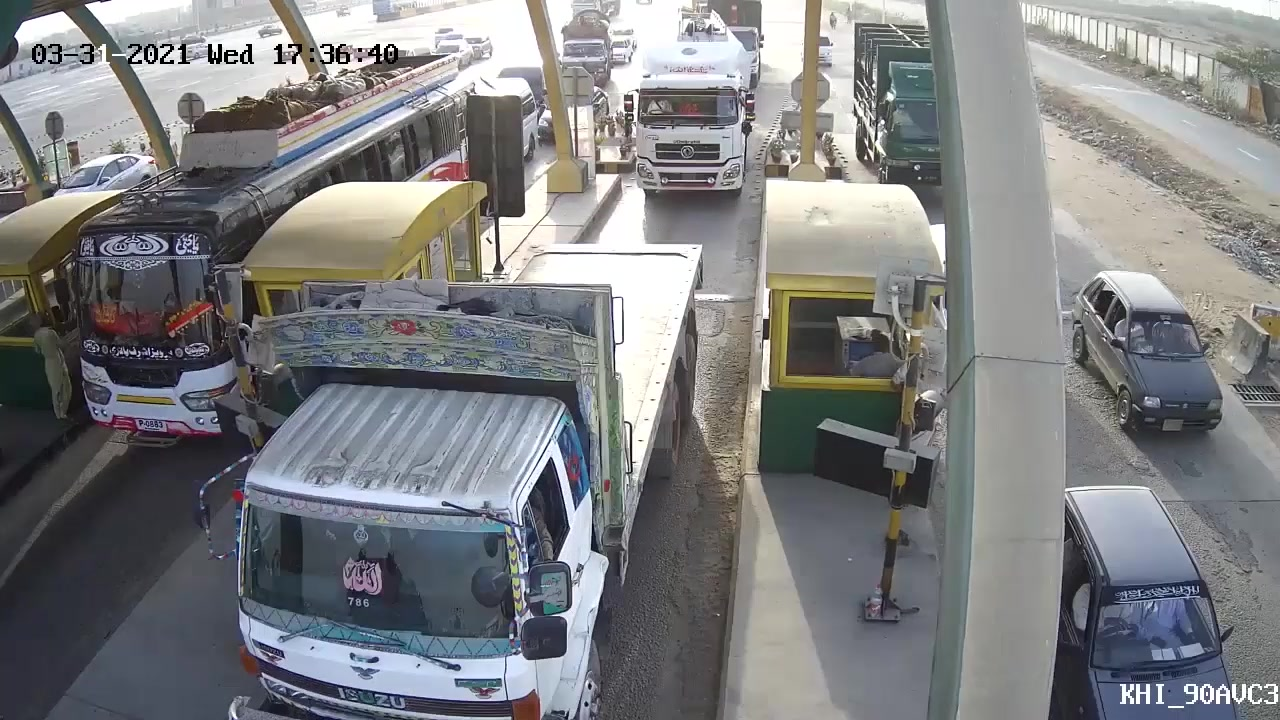F6: (630, 38, 748, 194)
